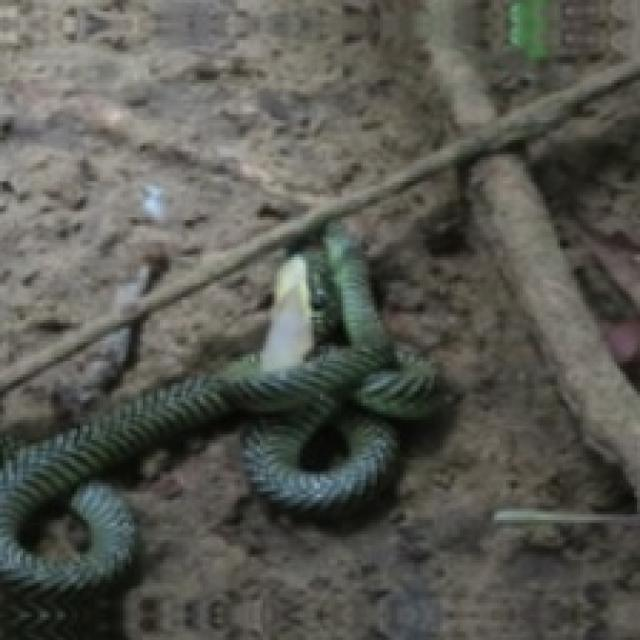paradise tree snake: (0, 229, 440, 589)
